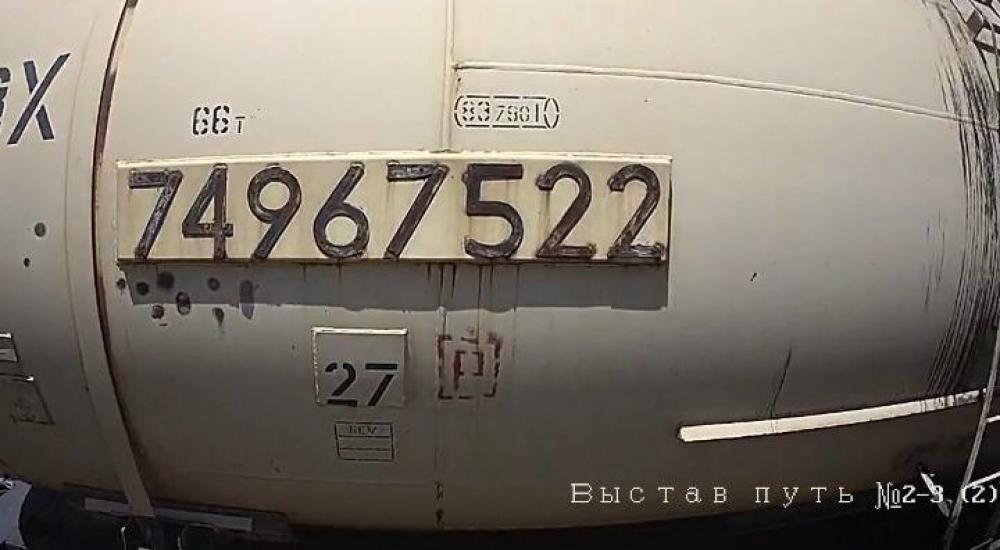Wagon-number: (122, 161, 673, 267)
